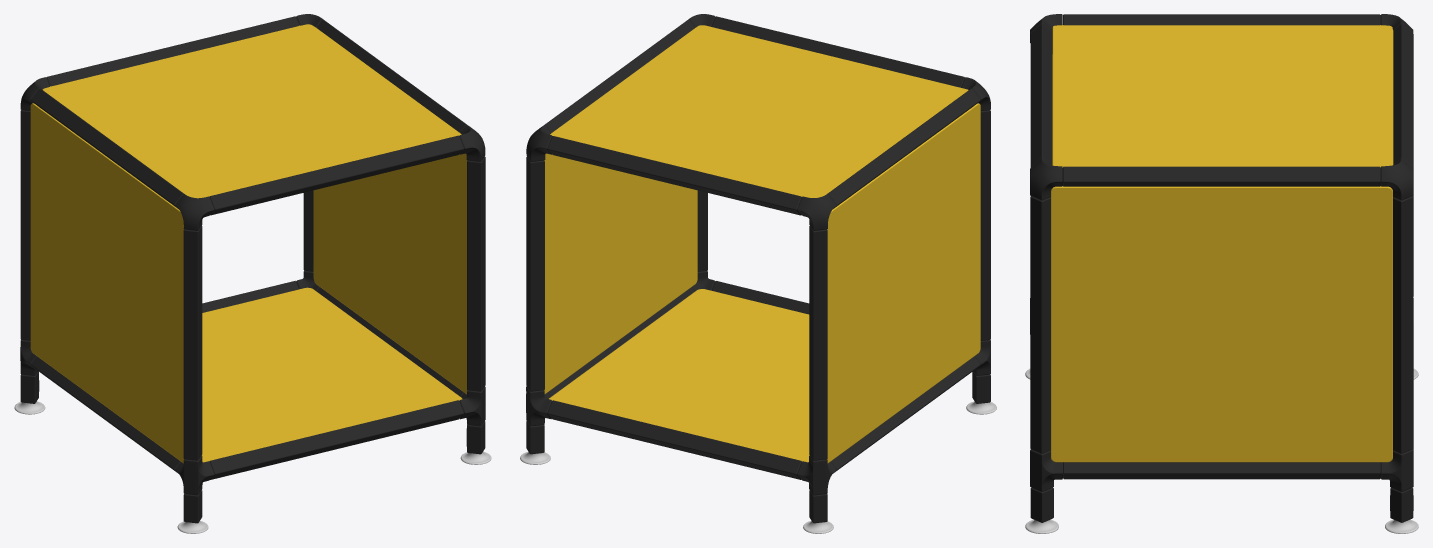
The picture shows the model from 3 angles, left to right: view 1: azimuth 30°, elevation 25°; view 2: azimuth 150°, elevation 25°; view 3: azimuth 270°, elevation 25°; orthographic projection. The views are drawn at different scales.
Parts seen in each view (by area): view 1: 374x374x329; view 2: 374x374x329; view 3: 374x374x329.
Part boxes in pixels (bbox=[...]): 374x374x329: bbox=[14, 14, 491, 533]; 374x374x329: bbox=[520, 14, 996, 533]; 374x374x329: bbox=[1025, 14, 1418, 533].
Bounding box in the file's own units: 0.4639 × 0.4683 × 0.4632.
